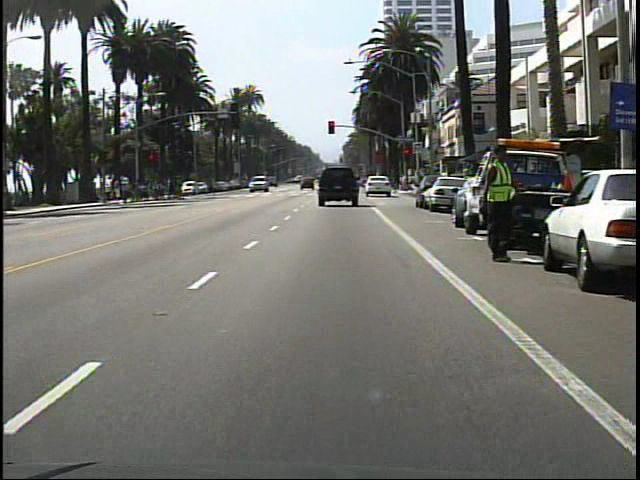person: (477, 142, 518, 269), (202, 172, 221, 201)
